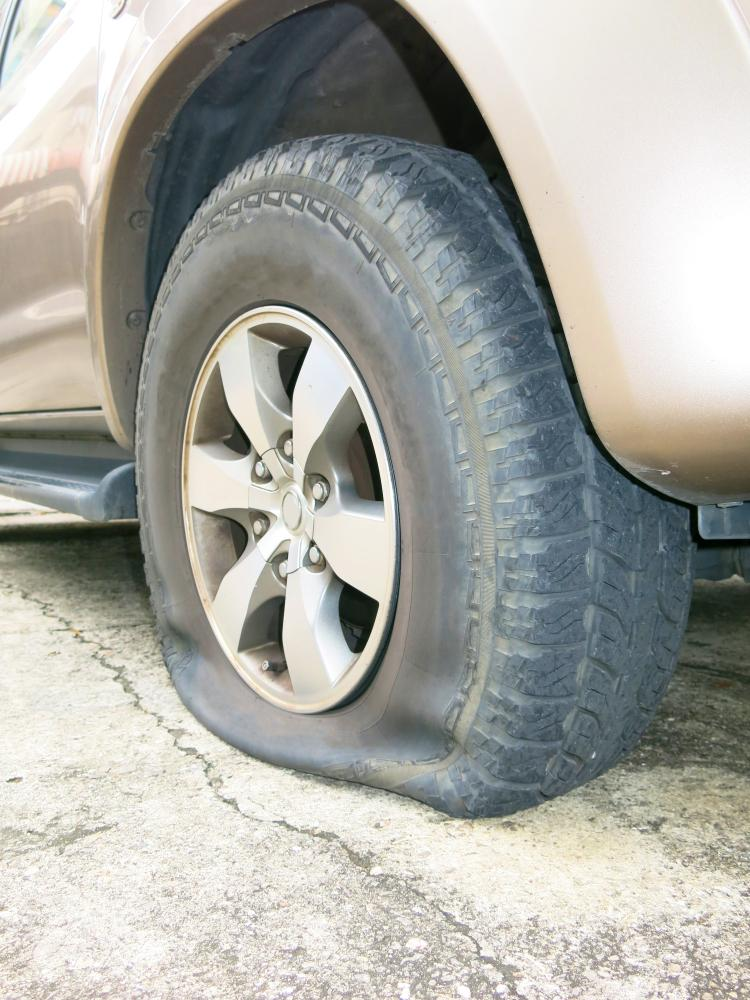tire flat: (135, 133, 694, 821)
